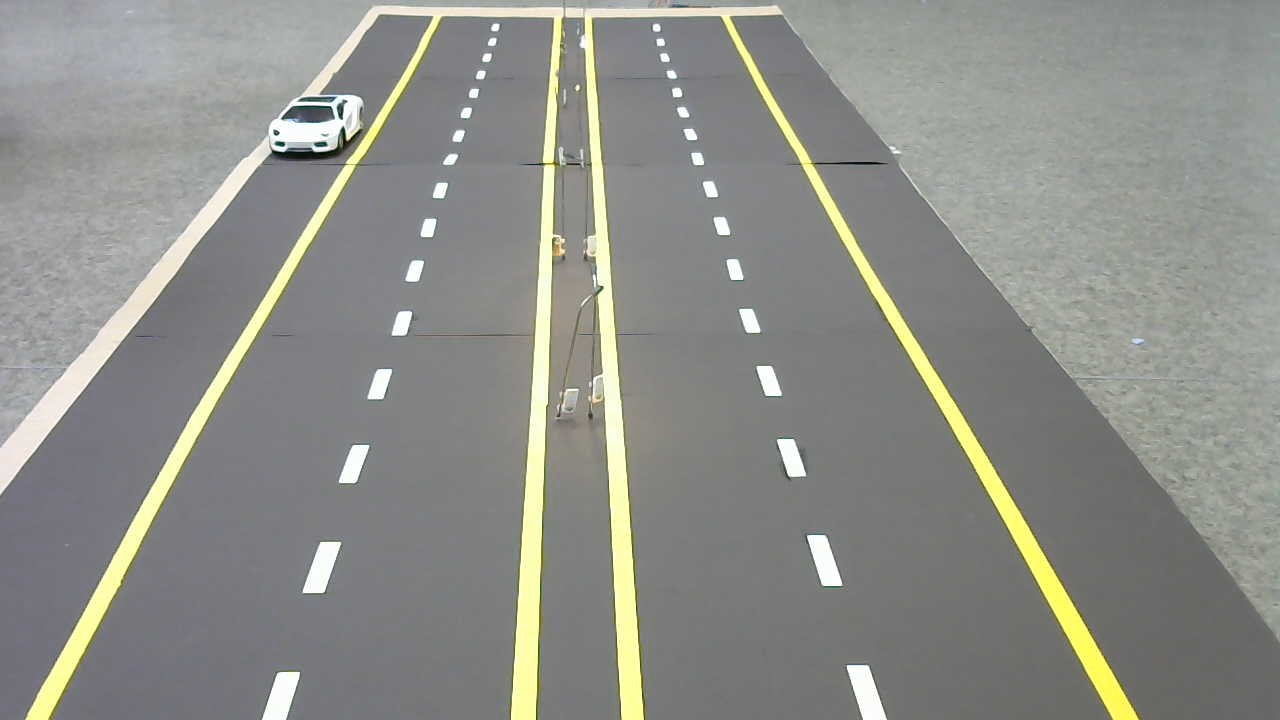front_car: (264, 89, 367, 159)
